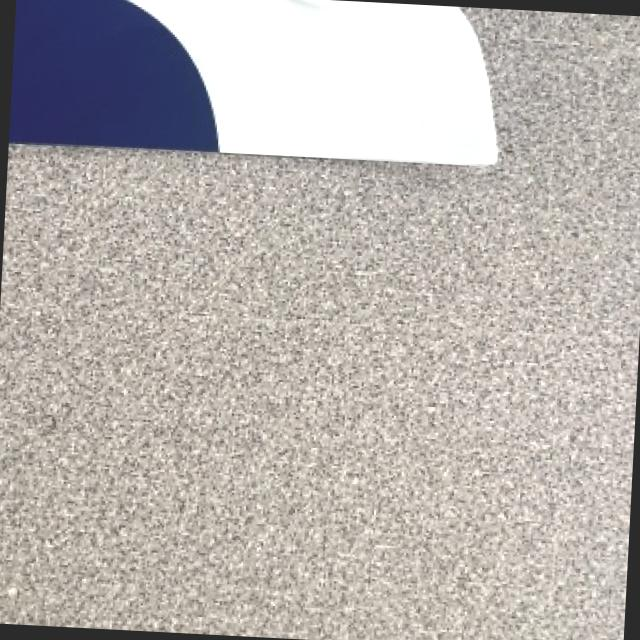healthy: (9, 0, 494, 160)
